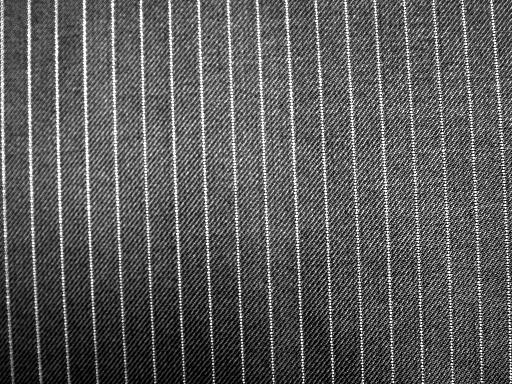fabric_perfect: (3, 3, 511, 383)
